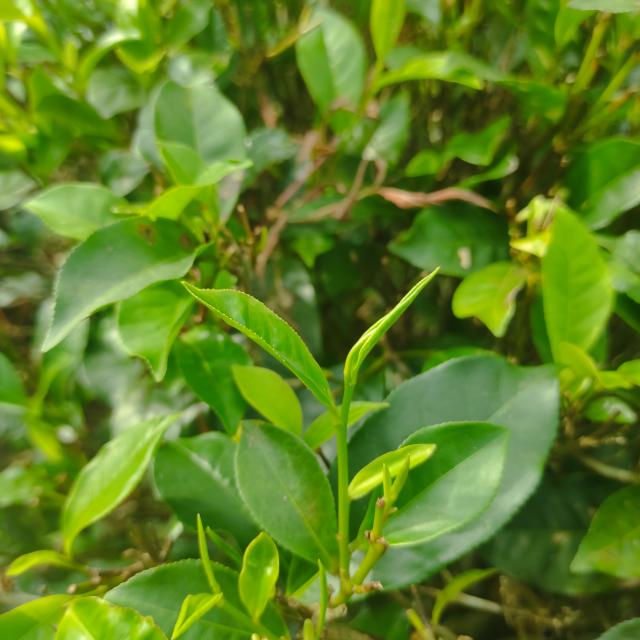unopened_leaf: (339, 260, 449, 390), (192, 512, 225, 600), (386, 449, 423, 509), (203, 522, 248, 570), (313, 553, 333, 640), (374, 461, 400, 507)
